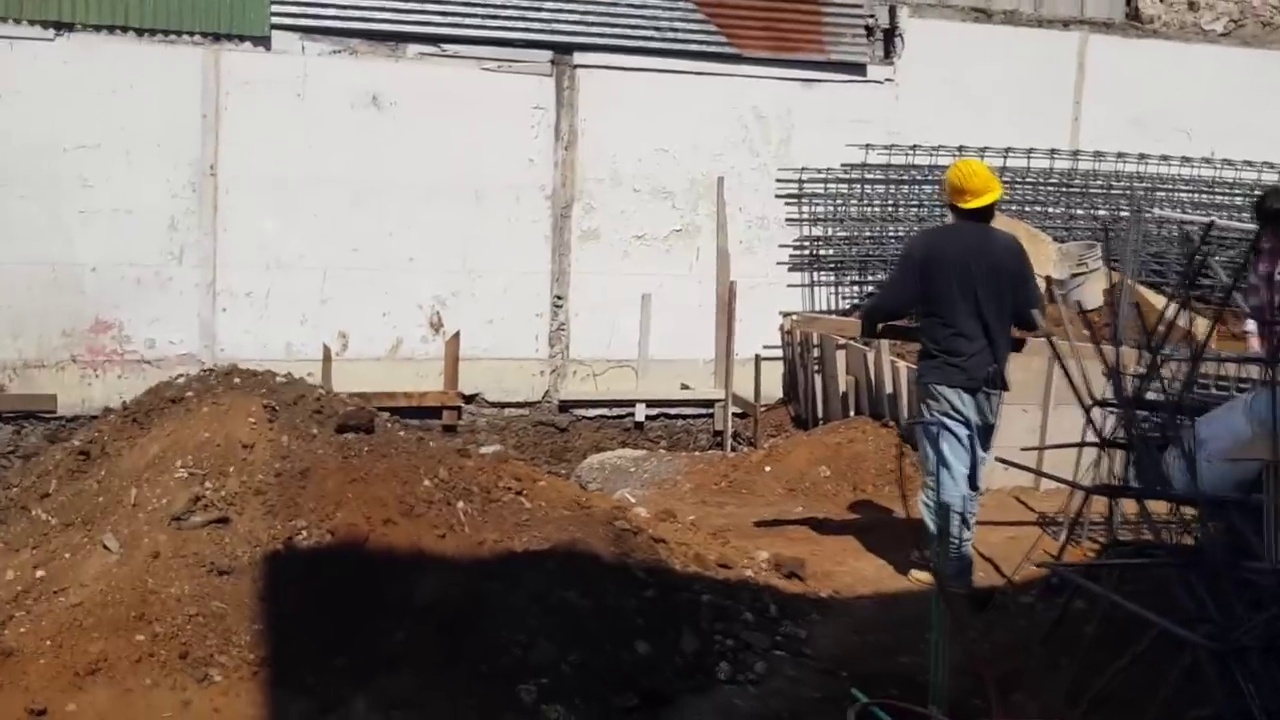helmet: (943, 151, 1008, 210)
helmet-on: (941, 151, 1010, 231)
person: (846, 150, 1052, 633)
